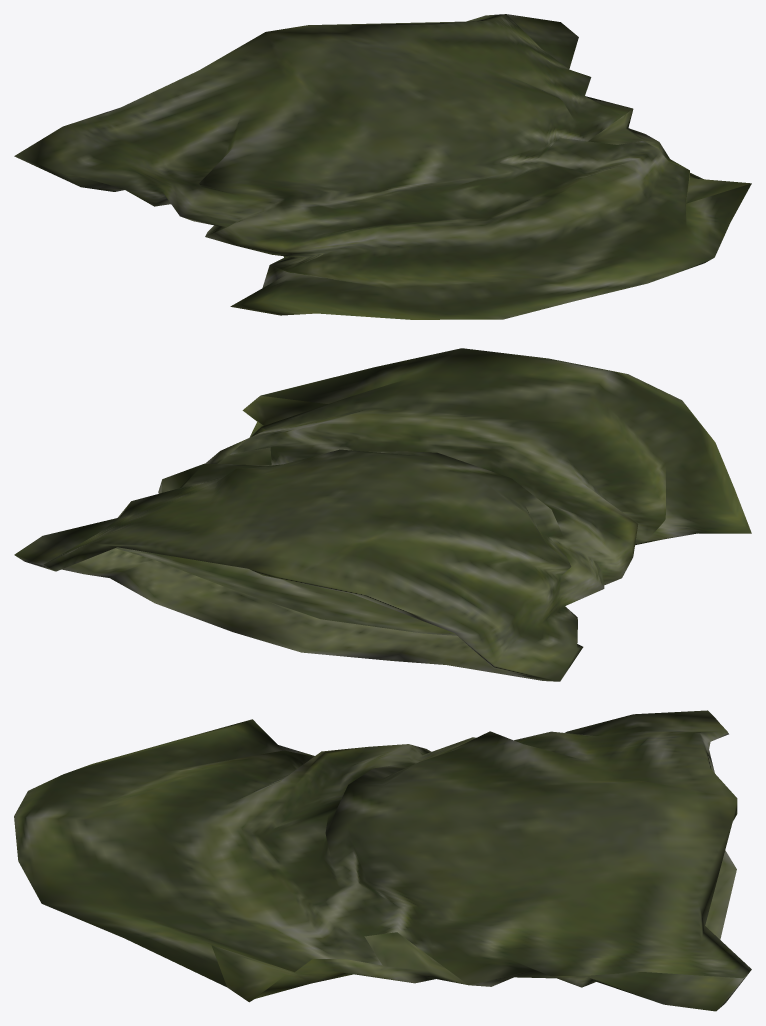
Rendered from NeckGaiter_Ground.fbx.
3 views of the same model, one above another, from view 1: azimuth 30°, elevation 25°; view 2: azimuth 150°, elevation 25°; view 3: azimuth 270°, elevation 25° (orthographic). The views are drawn at different scales.
Parts seen in each view (by area): view 1: NeckGaiter; view 2: NeckGaiter; view 3: NeckGaiter.
Part boxes in pixels (x1,y1,x2,y2): NeckGaiter: (14,14,751,319); NeckGaiter: (14,348,751,681); NeckGaiter: (14,710,751,1011).
Bounding box in the file's own units: 0.1414 × 0.0202 × 0.148.
